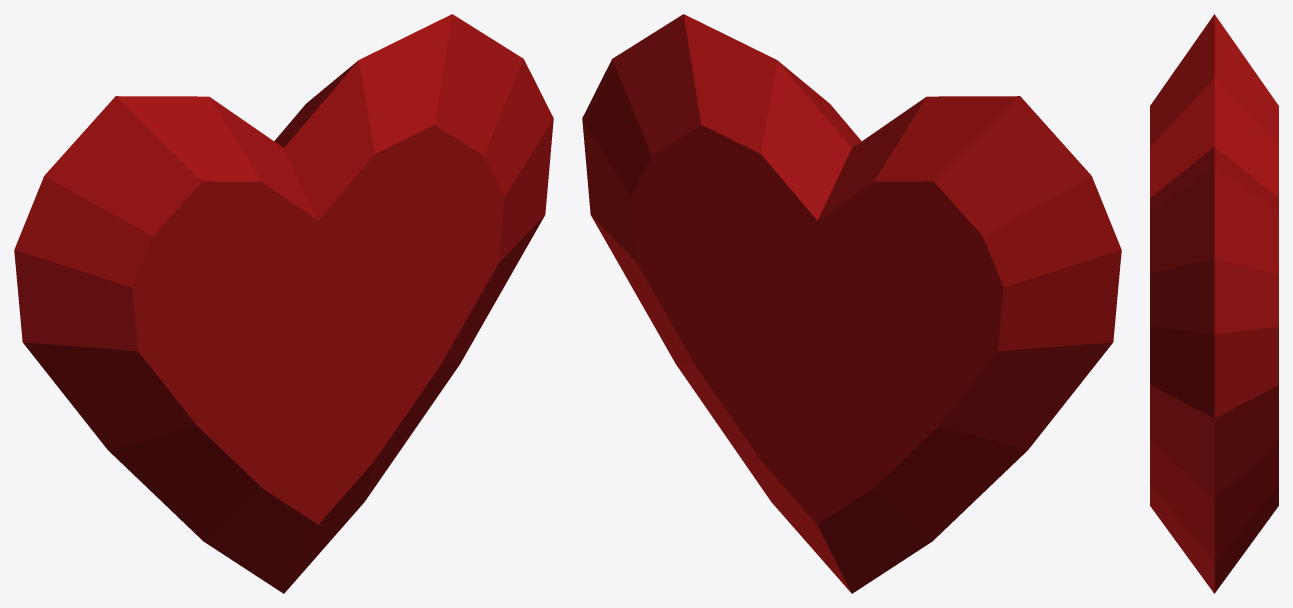
Rendered from Heart_Up.fbx.
3 renders of one model, left to right at view 1: azimuth 30°, elevation 25°; view 2: azimuth 150°, elevation 25°; view 3: azimuth 270°, elevation 25°, orthographic. The views are drawn at different scales.
Parts seen in each view (by area): view 1: Heart_Up; view 2: Heart_Up; view 3: Heart_Up.
Part boxes in pixels (x1,y1,x2,y2): Heart_Up: (14, 14, 553, 593); Heart_Up: (582, 14, 1121, 593); Heart_Up: (1150, 14, 1278, 593).
Size of the model in its own units: 408 by 390 by 90.31.
